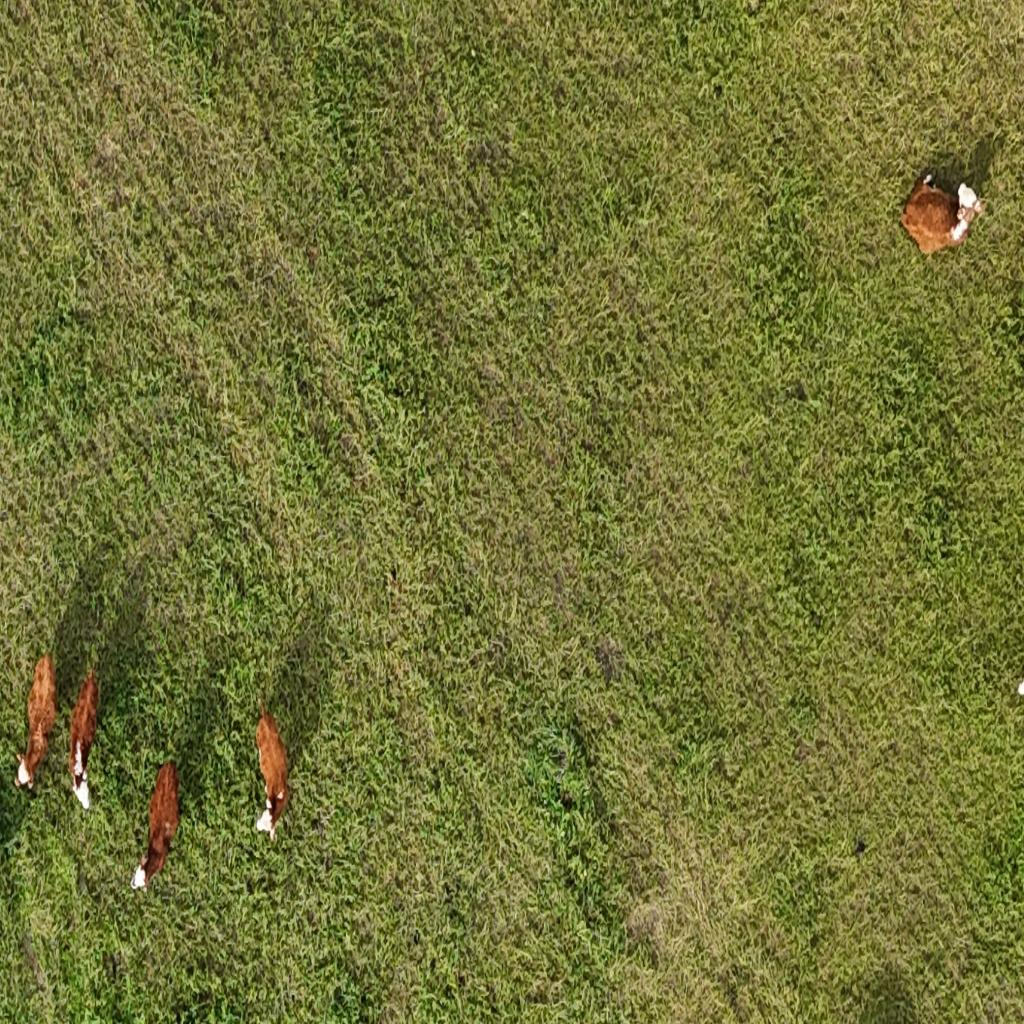cow: (898, 166, 987, 257), (130, 758, 183, 896), (14, 655, 60, 797), (251, 702, 291, 850), (64, 663, 102, 815)
